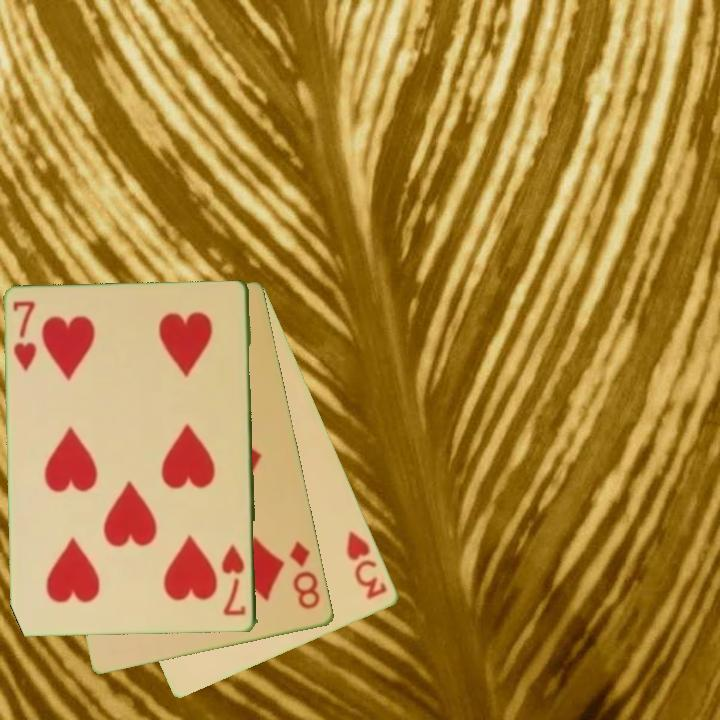3h: (343, 527, 391, 603)
7h: (218, 541, 249, 619), (10, 297, 40, 375)
8d: (286, 538, 324, 613)
